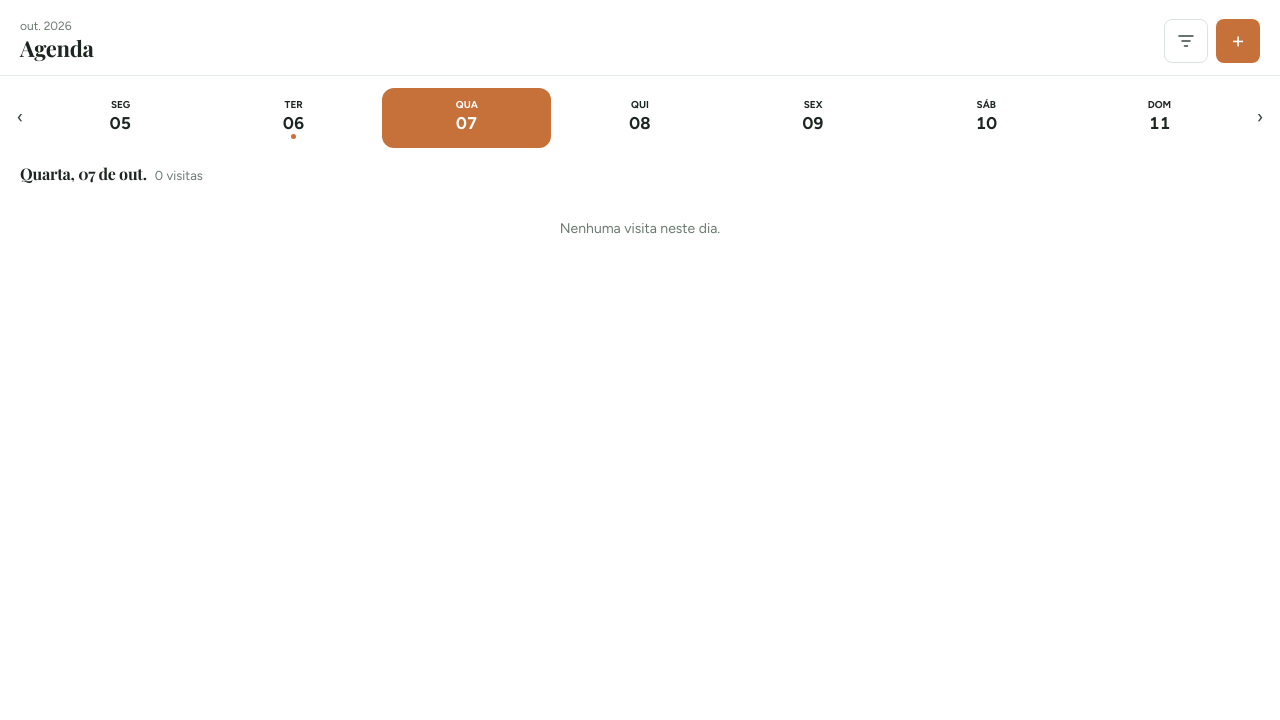
Test: Registro da visita (CRMLAB-88) › "Agendar retorno" abre a visita nova com médico, responsável, tipo e a data às 09:00 — sem criar sozinha
Click the tab with aria-label "Terça, 06 de out., com visitas".
click(294, 118)  # box [209, 88, 378, 148]
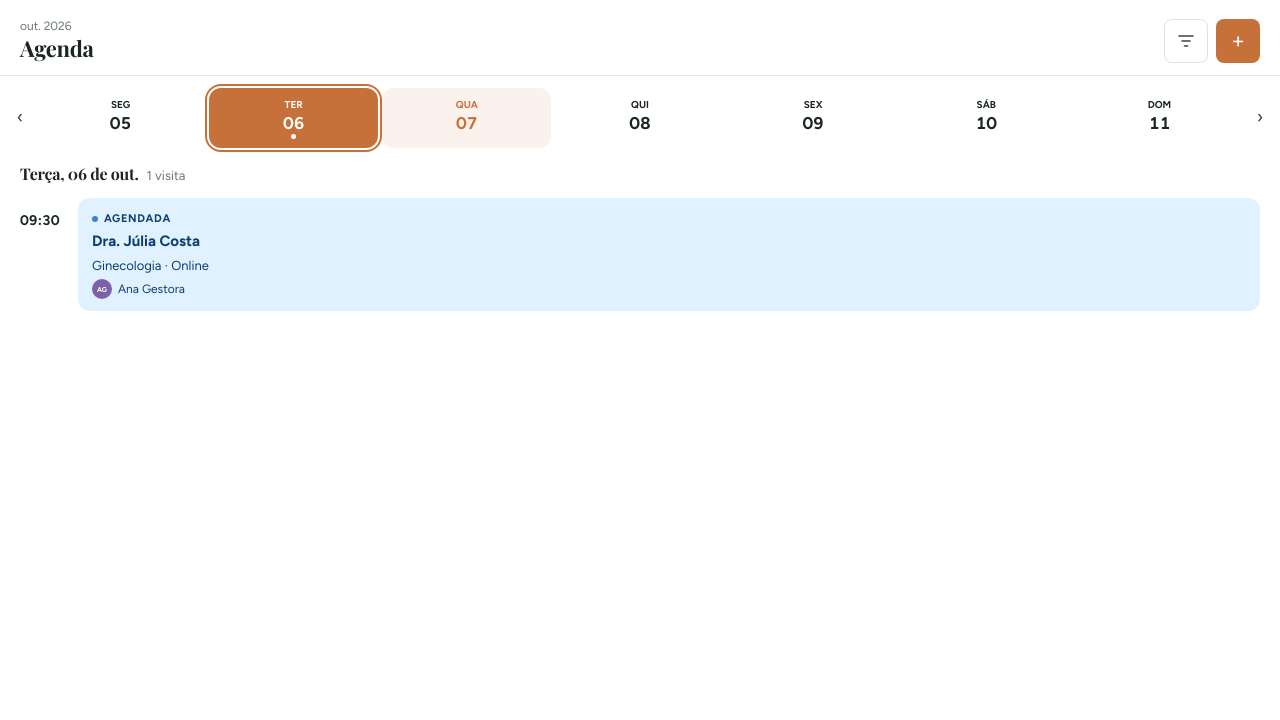
Click the text "Dra. Júlia Costa".
click(146, 242)  # box [92, 230, 200, 253]
(page scrolled)
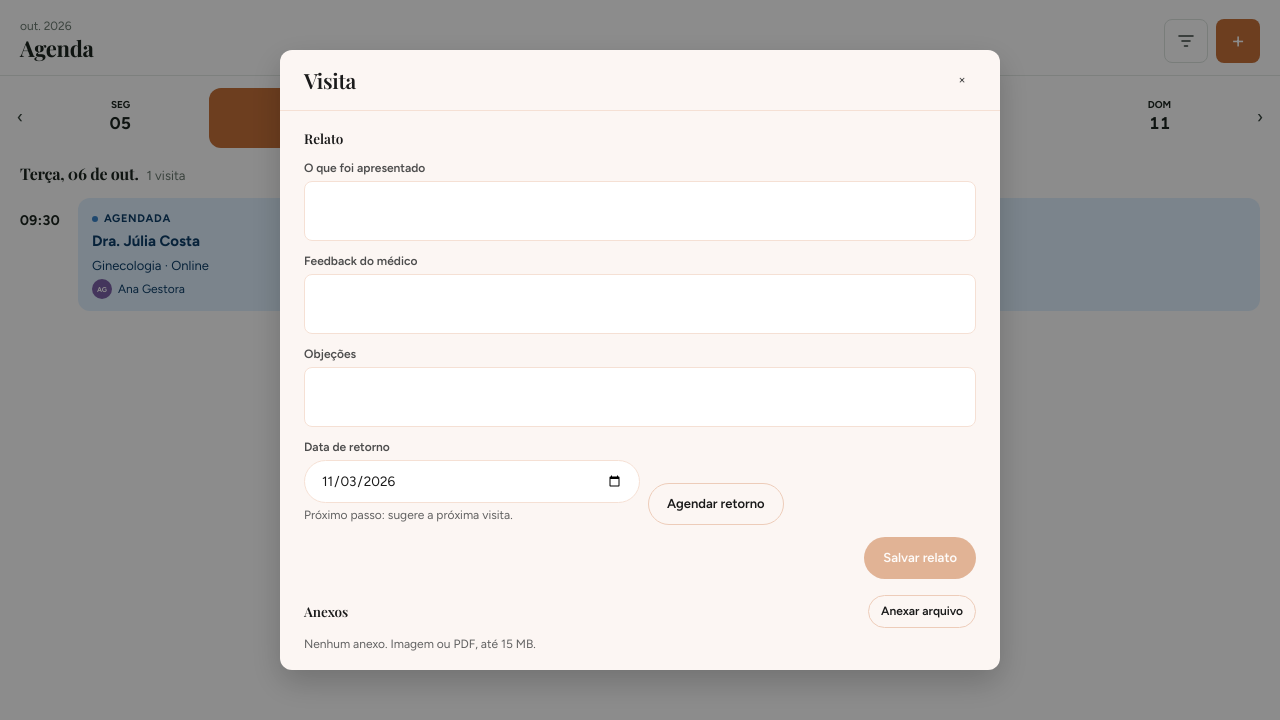
Click the button "Agendar retorno".
click(716, 504)  # box [648, 482, 784, 525]
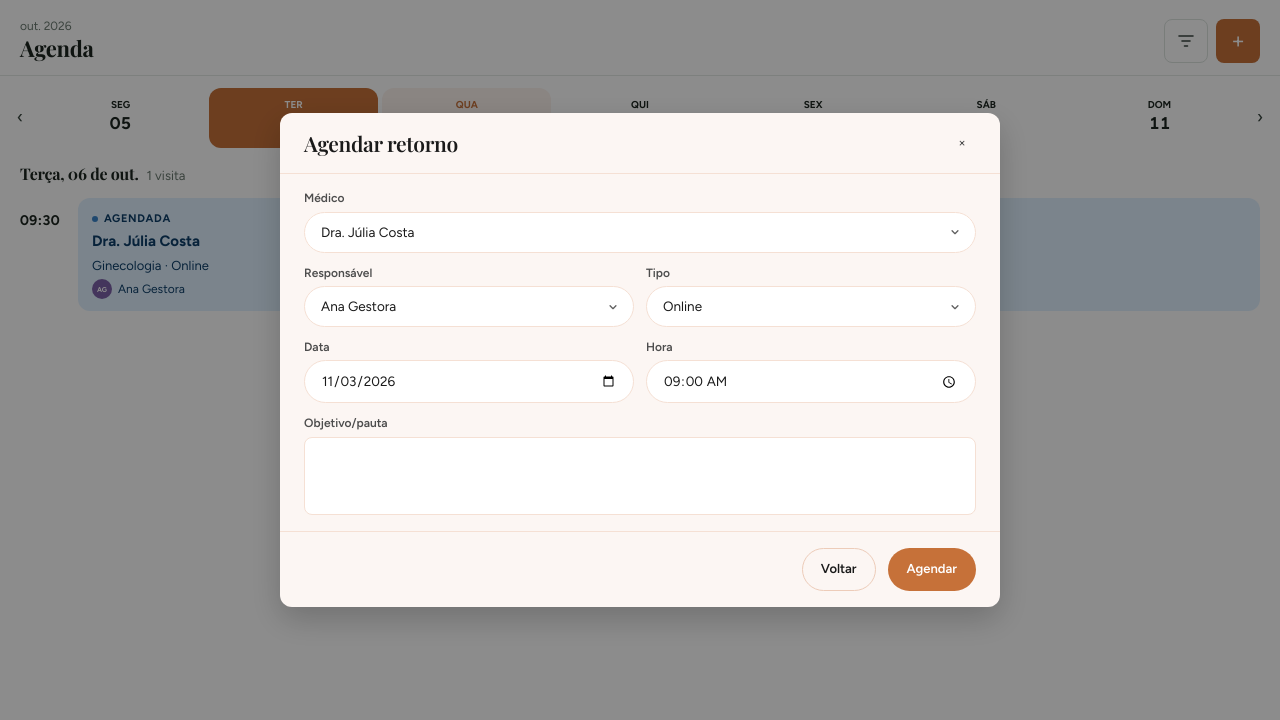
Expected: the date field labelled "Data" holds "2026-11-03", [321, 371, 617, 392]
Expected: the time field labelled "Hora" holds "09:00", [663, 371, 959, 392]
Expected: the dropdown labelled "Responsável" shows "Ana Gestora", [304, 286, 634, 327]
